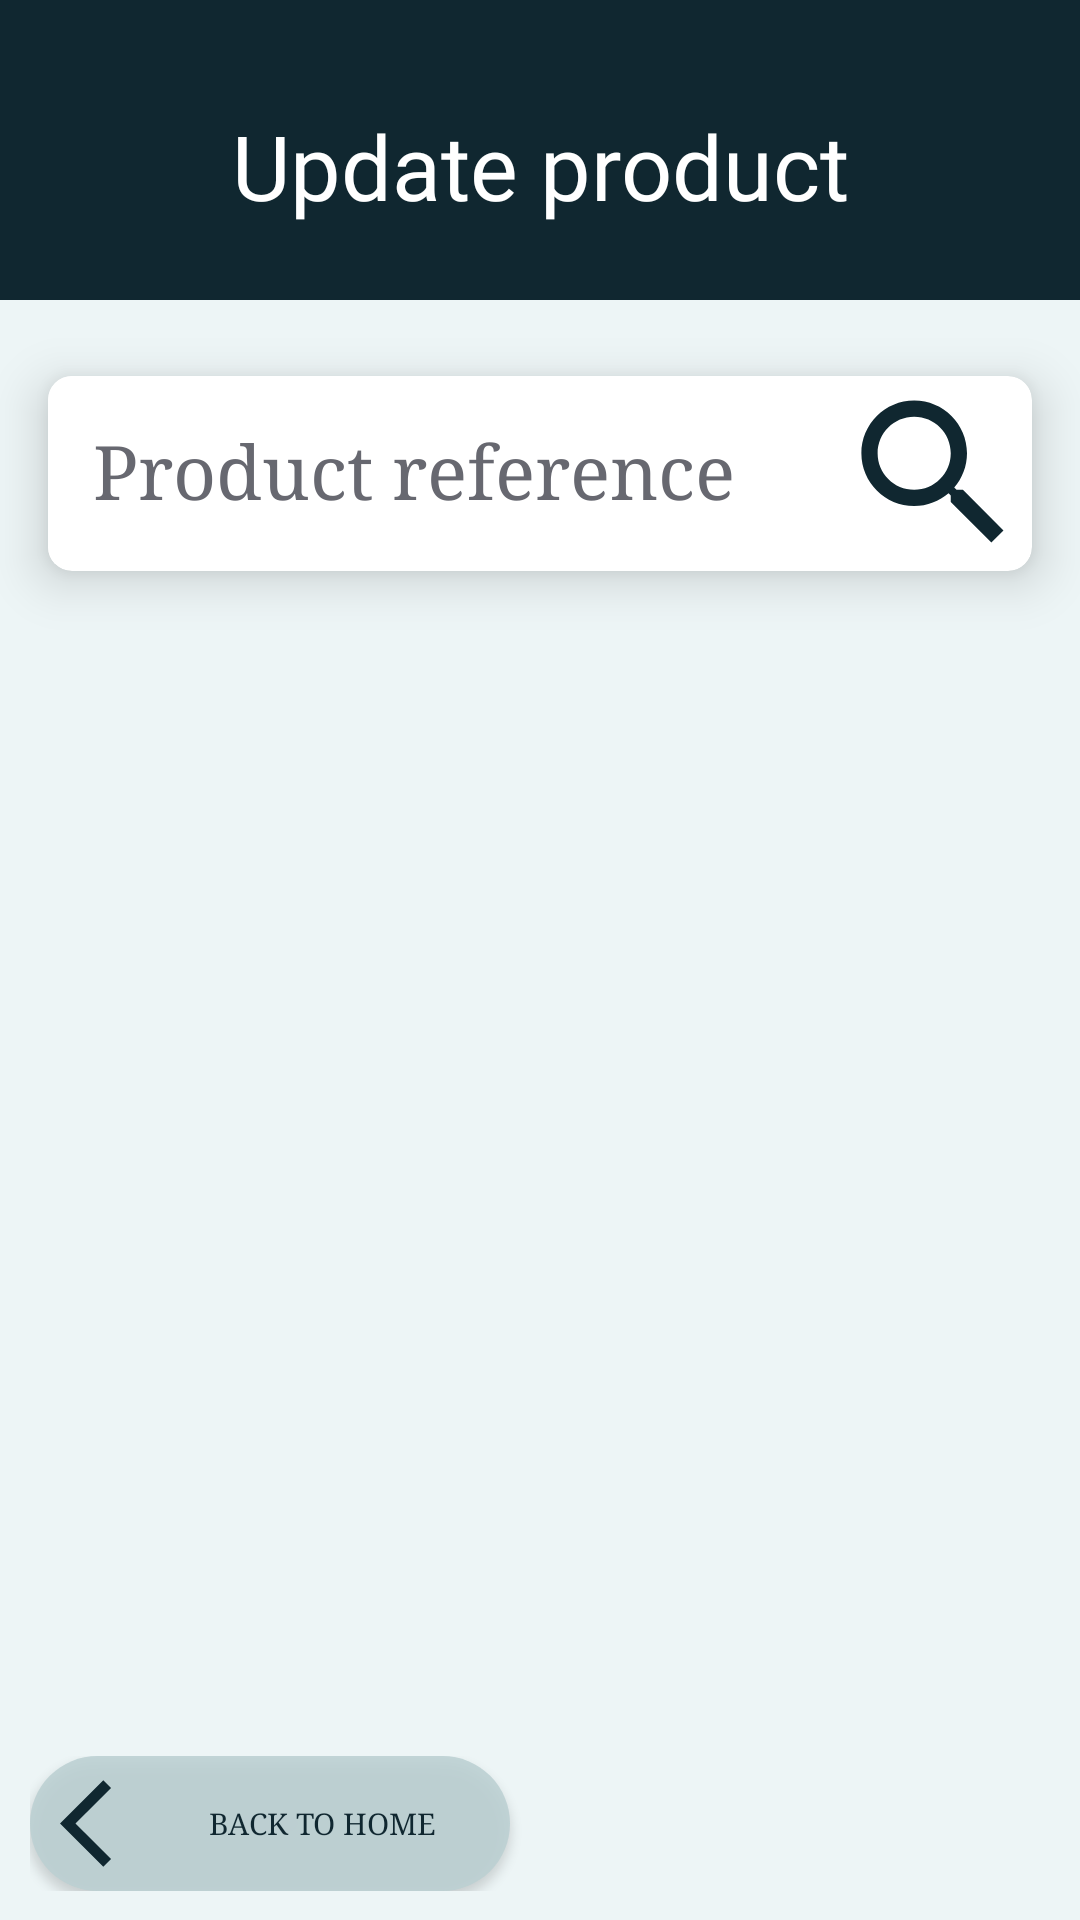

Icons on this 1080×1920 Android screen, each with its box as bbox=(x1, y1, x2, y2):
search: bbox=(837, 376, 1032, 571)
